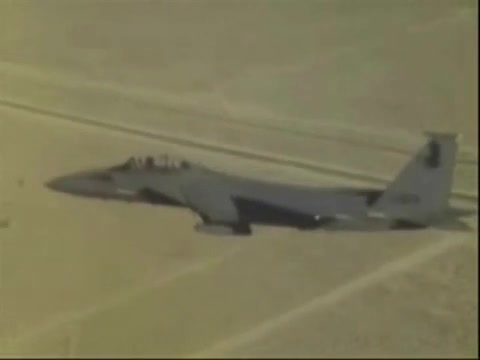aeroplane: (43, 131, 476, 239)
